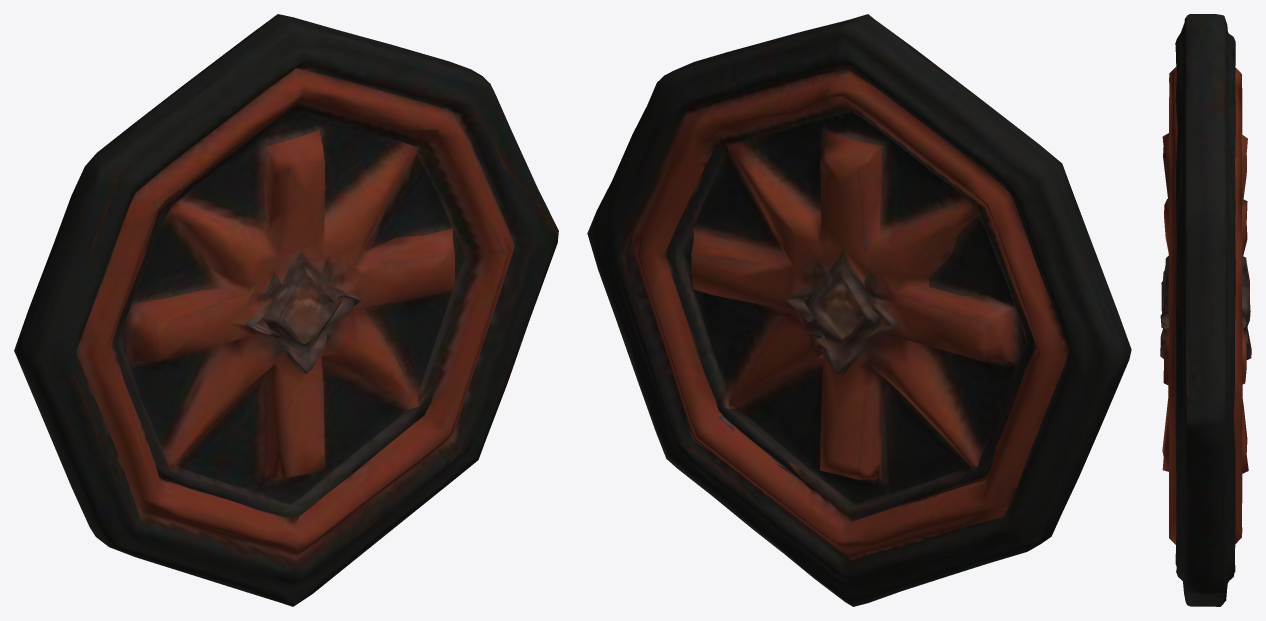
File: fs_bloom_rune.glb
The picture shows the model from 3 angles, left to right: view 1: azimuth 30°, elevation 25°; view 2: azimuth 150°, elevation 25°; view 3: azimuth 270°, elevation 25°; orthographic projection.
Parts seen in each view (by area): view 1: geometry_0; view 2: geometry_0; view 3: geometry_0.
Part boxes in pixels (x1,y1,x2,y2): geometry_0: [14, 14, 558, 606]; geometry_0: [587, 14, 1131, 606]; geometry_0: [1160, 14, 1251, 606].
Size of the model in its own units: 0.9535 by 1 by 0.1402.
1 material, 1 textured.
